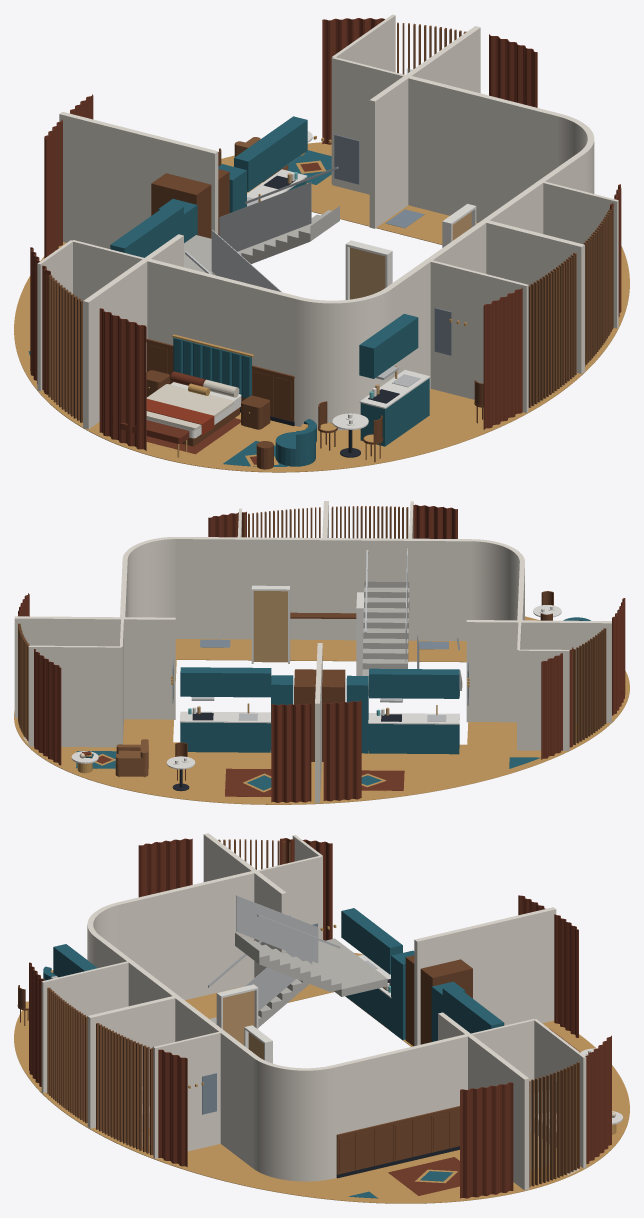
3 views of the same model, one above another, from view 1: azimuth 30°, elevation 25°; view 2: azimuth 150°, elevation 25°; view 3: azimuth 270°, elevation 25° (orthographic). The views are drawn at different scales.
Visible parts, largest first — view 1: Muros, Mobiliario, Elementos genéricos, Pisos, Carpintería, Barandales, Puertas, Escaleras, Equipo especial; view 2: Muros, Mobiliario, Pisos, Carpintería, Elementos genéricos, Escaleras, Puertas, Equipo especial, Barandales; view 3: Muros, Mobiliario, Elementos genéricos, Pisos, Carpintería, Escaleras, Barandales, Puertas, Equipo especial.
Part boxes in pixels (left/top/right/bottom): Muros: left=37, top=14, right=618, bottom=430; Mobiliario: left=25, top=18, right=621, bottom=469; Elementos genéricos: left=43, top=22, right=613, bottom=426; Pisos: left=14, top=142, right=629, bottom=472; Carpintería: left=110, top=116, right=430, bottom=446; Barandales: left=185, top=166, right=338, bottom=291; Puertas: left=345, top=204, right=476, bottom=299; Escaleras: left=184, top=206, right=339, bottom=275; Equipo especial: left=158, top=164, right=246, bottom=242; Muros: left=14, top=501, right=611, bottom=803; Mobiliario: left=18, top=504, right=625, bottom=802; Pisos: left=14, top=616, right=629, bottom=804; Carpintería: left=180, top=667, right=459, bottom=761; Elementos genéricos: left=18, top=506, right=606, bottom=746; Escaleras: left=362, top=581, right=462, bottom=695; Puertas: left=251, top=585, right=363, bottom=675; Equipo especial: left=271, top=675, right=368, bottom=753; Barandales: left=365, top=548, right=459, bottom=668; Muros: left=41, top=833, right=586, bottom=1190; Mobiliario: left=17, top=838, right=623, bottom=1199; Elementos genéricos: left=47, top=839, right=579, bottom=1187; Pisos: left=14, top=953, right=629, bottom=1203; Carpintería: left=51, top=908, right=556, bottom=1147; Escaleras: left=209, top=933, right=387, bottom=1027; Barandales: left=208, top=895, right=340, bottom=1010; Puertas: left=216, top=984, right=272, bottom=1063; Equipo especial: left=391, top=950, right=465, bottom=1041.
Size of the model in its own units: 14.69 by 4.03 by 14.71.
